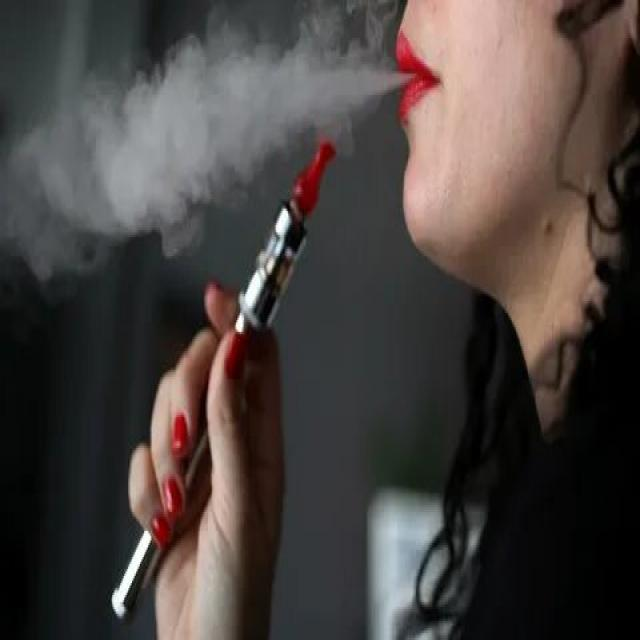smoke: (112, 123, 340, 626)
